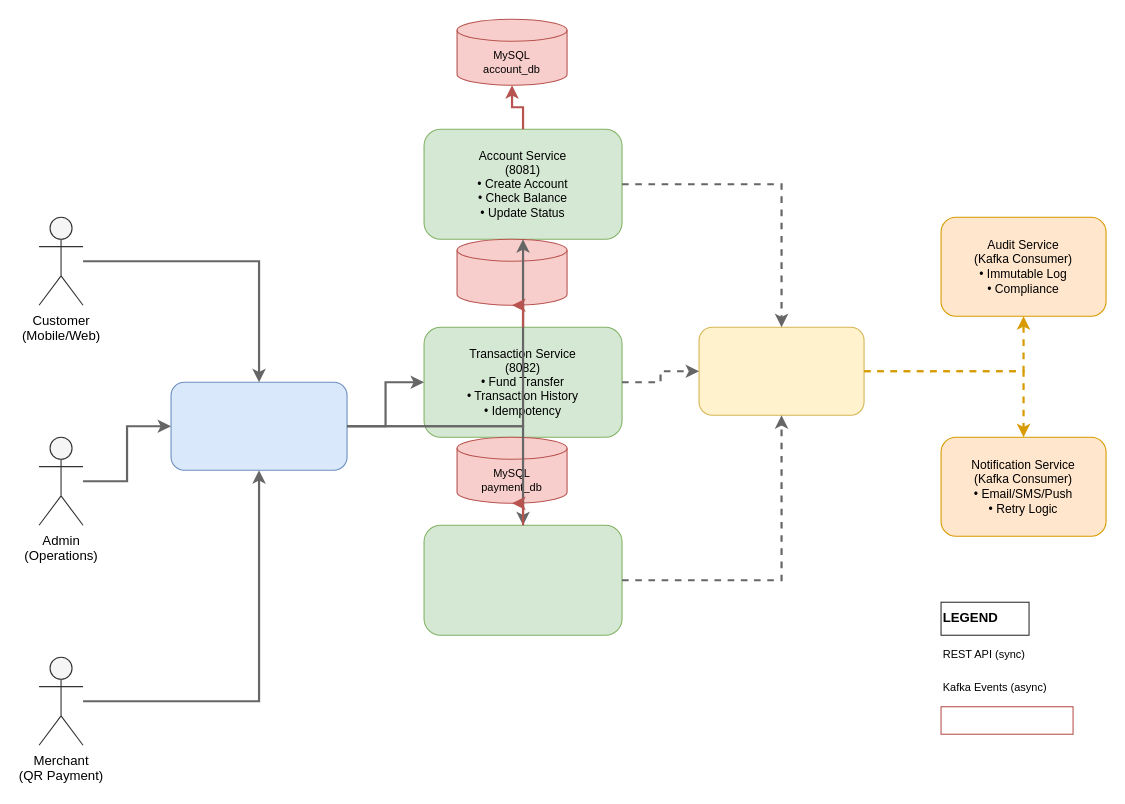
Image size: 1125x804. Some labels were removed from this diagram. The box of each missing label's shape, as (x1, y1, x2, y2) in pixels:
Apache Kafka (Event Bus) Topic: banking-events: (698, 326, 864, 415)
API Gateway (Authentication/Rate Limiting): (170, 381, 347, 470)
Database: (940, 706, 1073, 734)
MySQL transaction_db: (456, 238, 567, 305)
Payment API (8083) • Generate QR • Confirm Payment: (423, 524, 622, 635)
